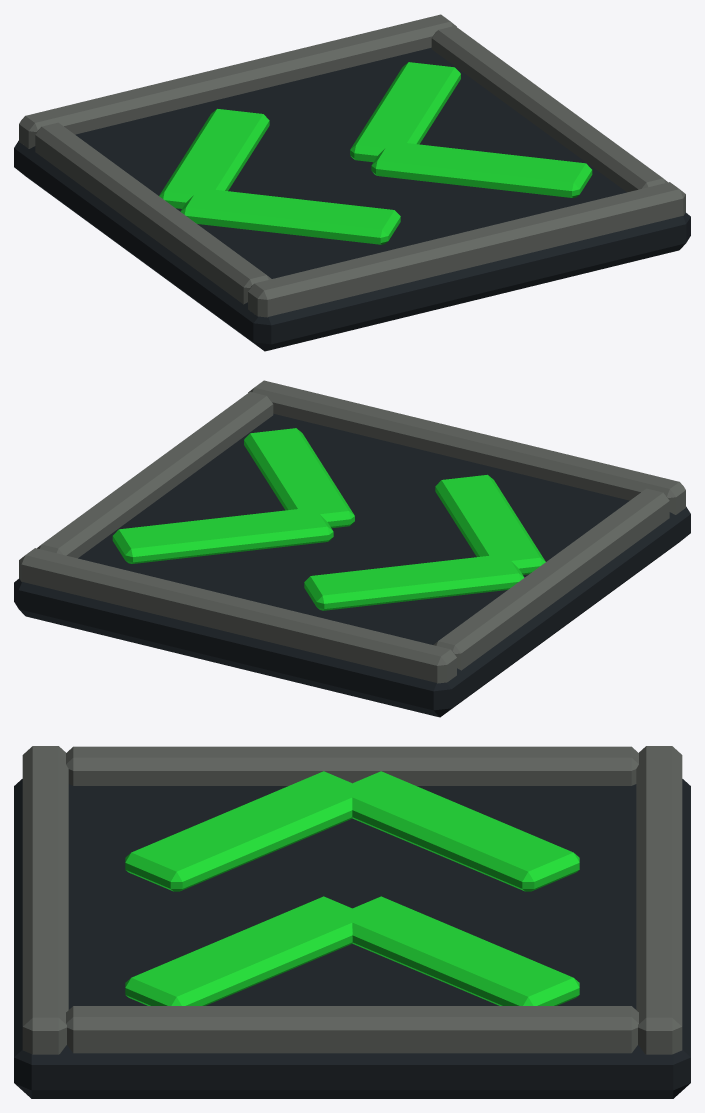
File: terrain-force-20.glb
The picture shows the model from 3 angles, top to bottom: view 1: azimuth 30°, elevation 25°; view 2: azimuth 150°, elevation 25°; view 3: azimuth 270°, elevation 25°; orthographic projection. The views are drawn at different scales.
Visible parts, largest first — view 1: terrain-force-20; view 2: terrain-force-20; view 3: terrain-force-20.
Part boxes in pixels (left/top/right/bottom): terrain-force-20: left=14, top=14, right=690, bottom=351; terrain-force-20: left=14, top=380, right=690, bottom=717; terrain-force-20: left=14, top=746, right=690, bottom=1098.
Size of the model in its own units: 0.96 by 0.1275 by 0.96.
